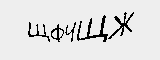Ж: (107, 10, 134, 42)
Ф: (49, 22, 65, 44)
Ч: (63, 18, 78, 44)
Щ: (76, 12, 109, 43), (25, 21, 49, 42)
